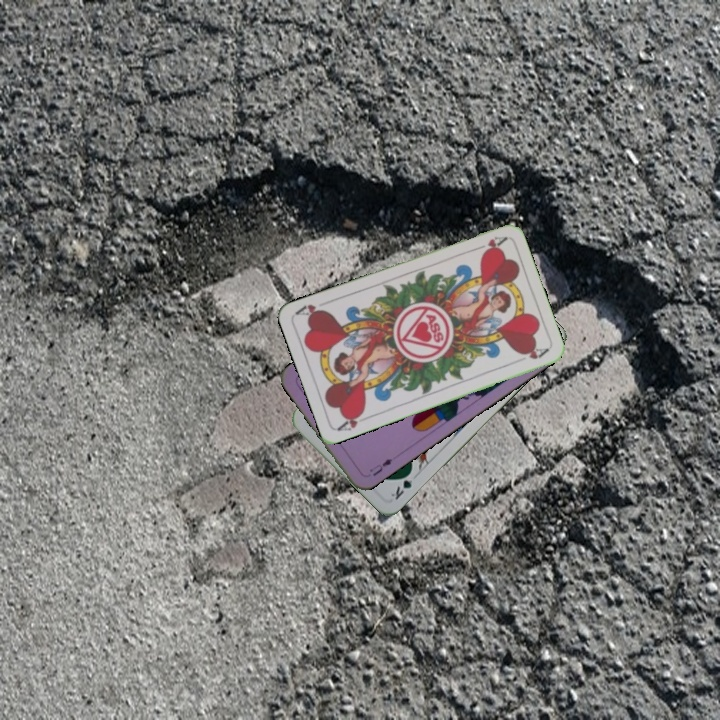EU: (365, 454, 395, 479)
GK: (386, 467, 420, 503)
HA: (334, 407, 373, 434), (469, 232, 509, 256)
